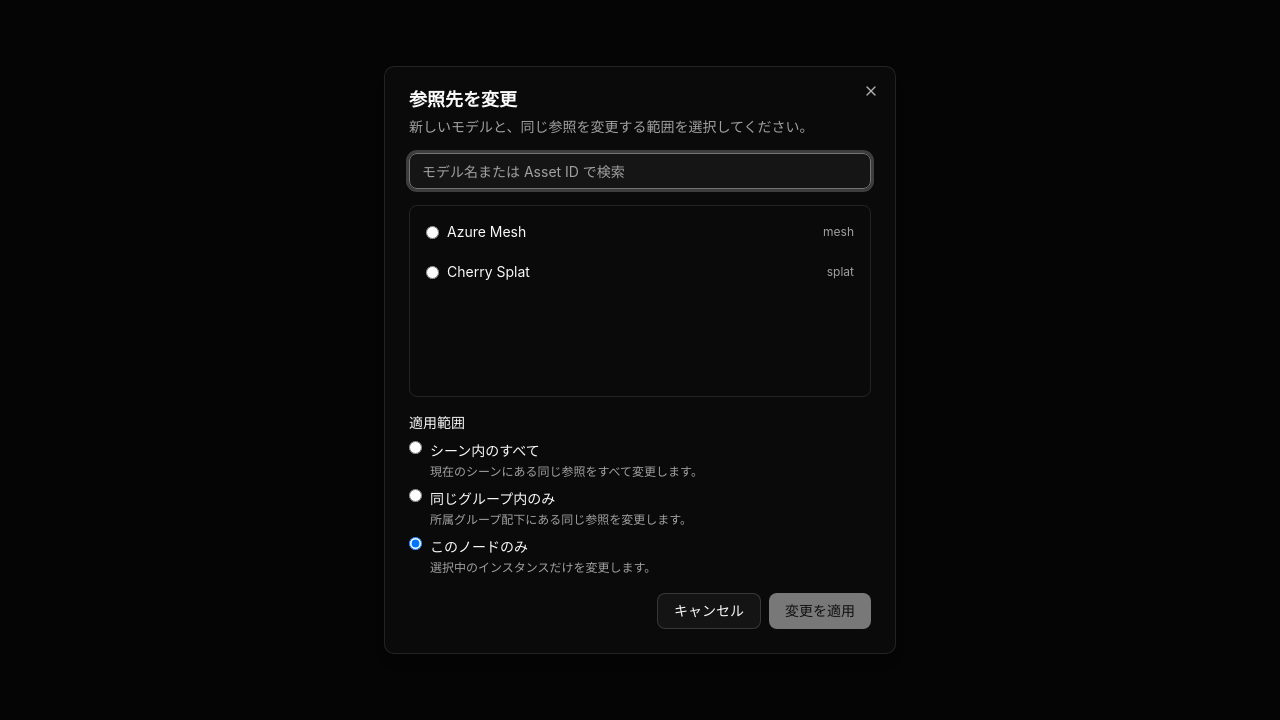
Scenario: ModelReferenceDialog › searches model candidates by name and Asset ID
Type "cherry" into the field named "モデルを検索" at [640, 171], box [409,153,871,189]
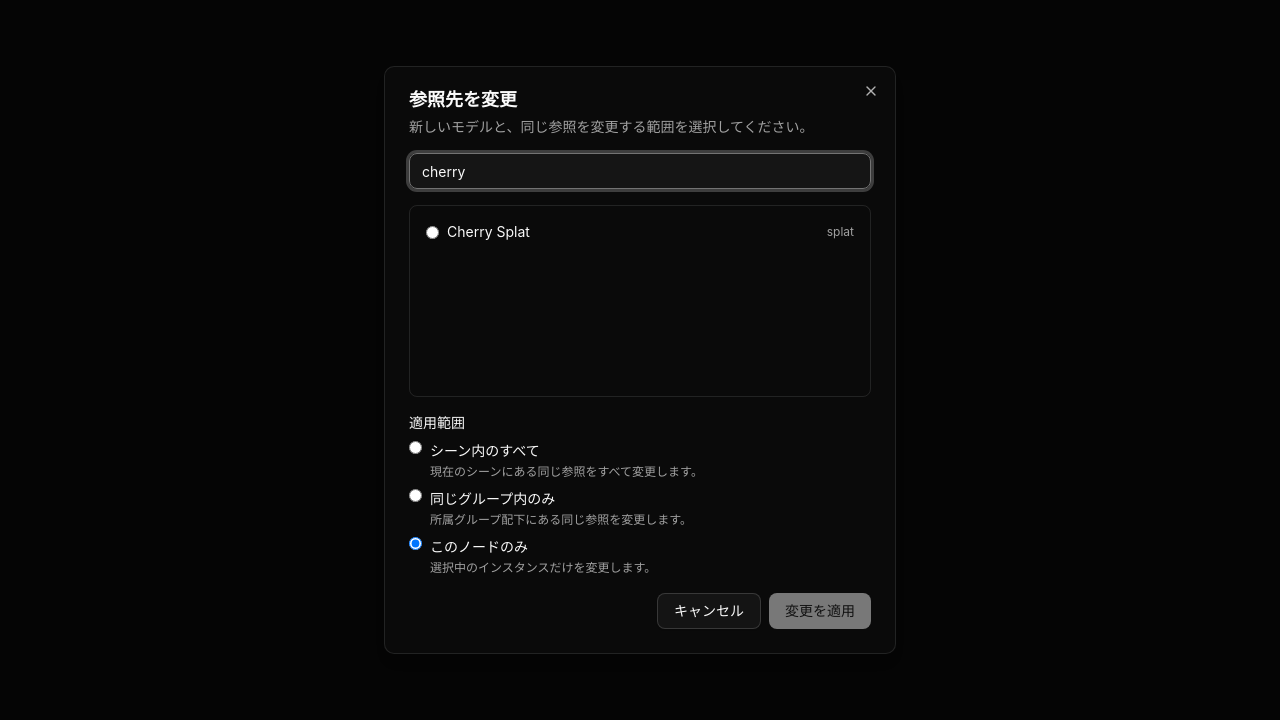
Expected: the text "Cherry Splat" is shown, [447,223,530,240]
Now the text "Azure Mesh" is gone
Replace the text in the field named "モデルを検索" with "MESH-TARGET" at [640, 171], box [409,153,871,189]
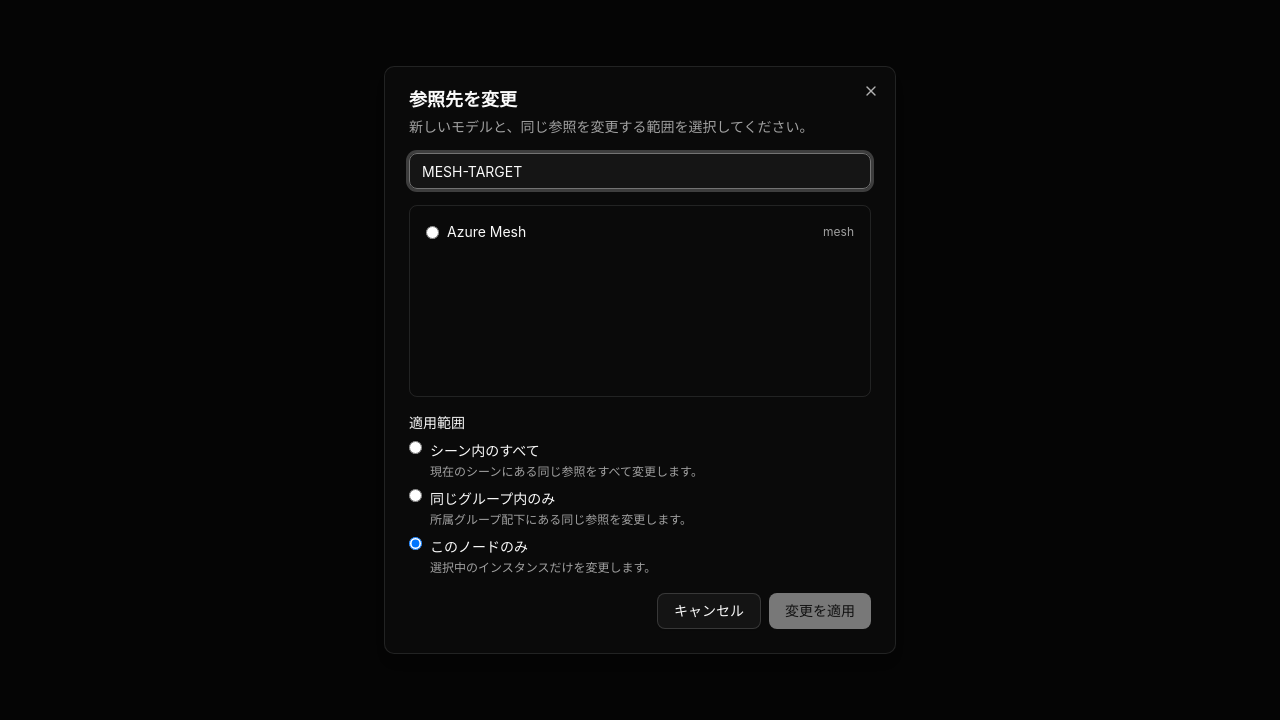
Now the text "Cherry Splat" is gone
Now the text "Azure Mesh" is shown, box [447,223,526,240]
